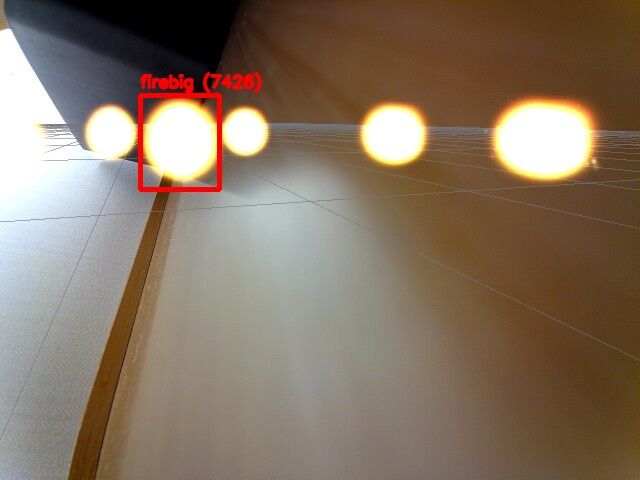firebig: (140, 95, 219, 189)
